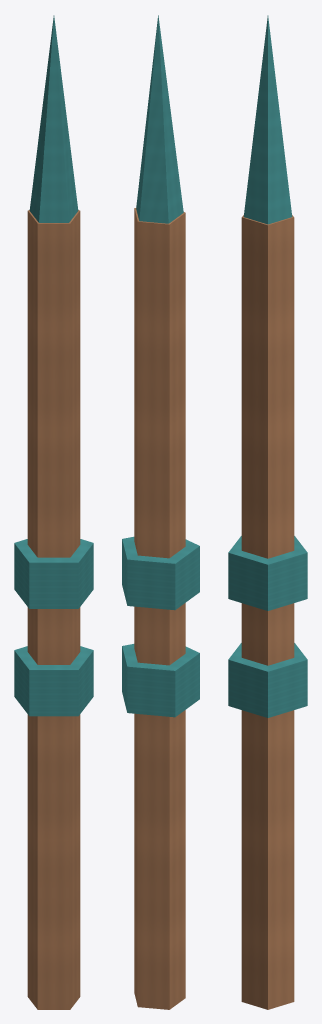
The model's file is atlas100-s091-a05.lod1.glb.
The picture shows the model from 3 angles, left to right: view 1: azimuth 90°, elevation 25°; view 2: azimuth 150°, elevation 25°; view 3: azimuth 270°, elevation 25°; orthographic projection.
Parts seen in each view (by area): view 1: atlas100-s091-a05:part-000, atlas100-s091-a05:part-004, atlas100-s091-a05:part-002, atlas100-s091-a05:part-003; view 2: atlas100-s091-a05:part-000, atlas100-s091-a05:part-004, atlas100-s091-a05:part-002, atlas100-s091-a05:part-003; view 3: atlas100-s091-a05:part-000, atlas100-s091-a05:part-004, atlas100-s091-a05:part-002, atlas100-s091-a05:part-003.
Boxes of the visible parts, left/top/right/bottom form: atlas100-s091-a05:part-000: left=27, top=210, right=80, bottom=1009; atlas100-s091-a05:part-004: left=29, top=15, right=78, bottom=222; atlas100-s091-a05:part-002: left=14, top=646, right=93, bottom=716; atlas100-s091-a05:part-003: left=14, top=539, right=93, bottom=608; atlas100-s091-a05:part-000: left=134, top=208, right=185, bottom=1009; atlas100-s091-a05:part-004: left=136, top=15, right=183, bottom=223; atlas100-s091-a05:part-002: left=122, top=644, right=199, bottom=717; atlas100-s091-a05:part-003: left=122, top=536, right=199, bottom=610; atlas100-s091-a05:part-000: left=241, top=215, right=294, bottom=1009; atlas100-s091-a05:part-004: left=243, top=15, right=292, bottom=224; atlas100-s091-a05:part-002: left=228, top=643, right=307, bottom=717; atlas100-s091-a05:part-003: left=228, top=536, right=307, bottom=610.
Size of the model in its own units: 0.1047 by 1.51 by 0.1101.
Materials: 2 (2 with a texture image).
